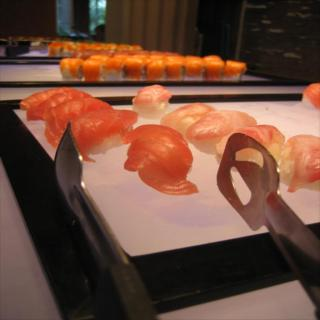Sushi: (48, 40, 245, 78), (186, 108, 252, 157), (218, 124, 286, 166), (278, 135, 320, 193), (162, 103, 213, 133), (130, 84, 170, 118), (300, 85, 320, 108)
